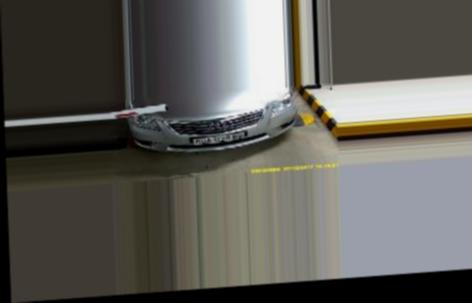License_Plate: (192, 129, 246, 145)
